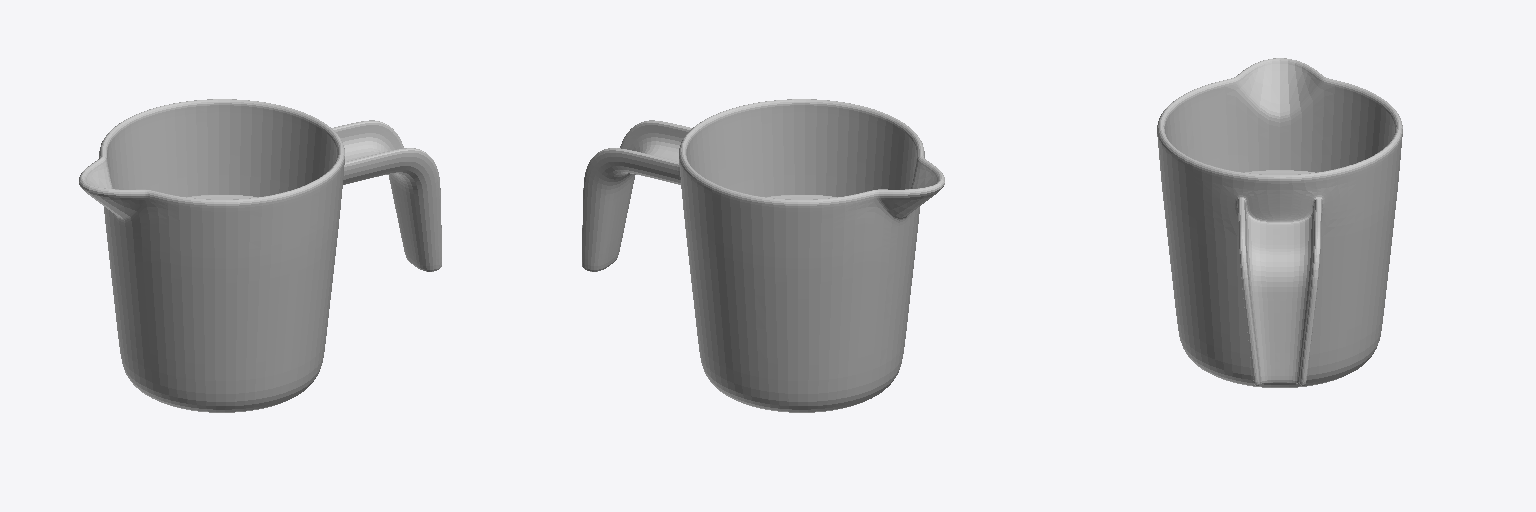
Rendered from MeasuringCup_Sub1.obj.
3 views of the same model, side by side, from view 1: azimuth 30°, elevation 25°; view 2: azimuth 150°, elevation 25°; view 3: azimuth 270°, elevation 25° (orthographic).
Parts seen in each view (by area): view 1: MeasuringCup; view 2: MeasuringCup; view 3: MeasuringCup.
Boxes of the visible parts, x1=… form: MeasuringCup: x1=79, y1=99, x2=441, y2=412; MeasuringCup: x1=582, y1=99, x2=944, y2=412; MeasuringCup: x1=1157, y1=58, x2=1402, y2=387.
Size of the model in its own units: 0.1346 by 0.0848 by 0.0825.